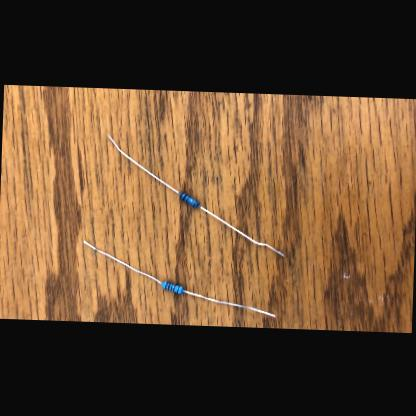resistor: (180, 192, 201, 208), (163, 279, 184, 293)
wire: (106, 132, 181, 192), (198, 204, 286, 254), (83, 240, 163, 284), (183, 290, 276, 316)
